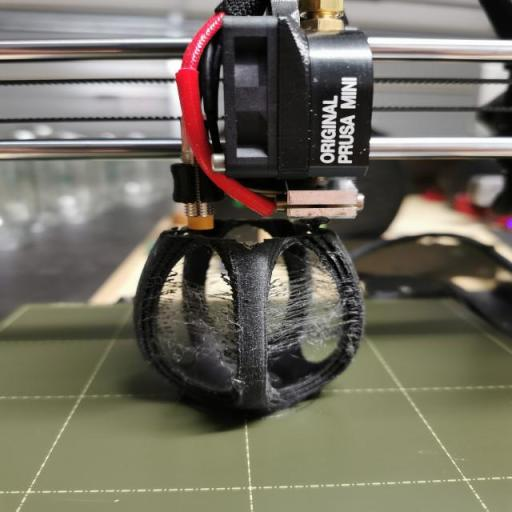stringing: (148, 268, 243, 370), (263, 267, 351, 358)
